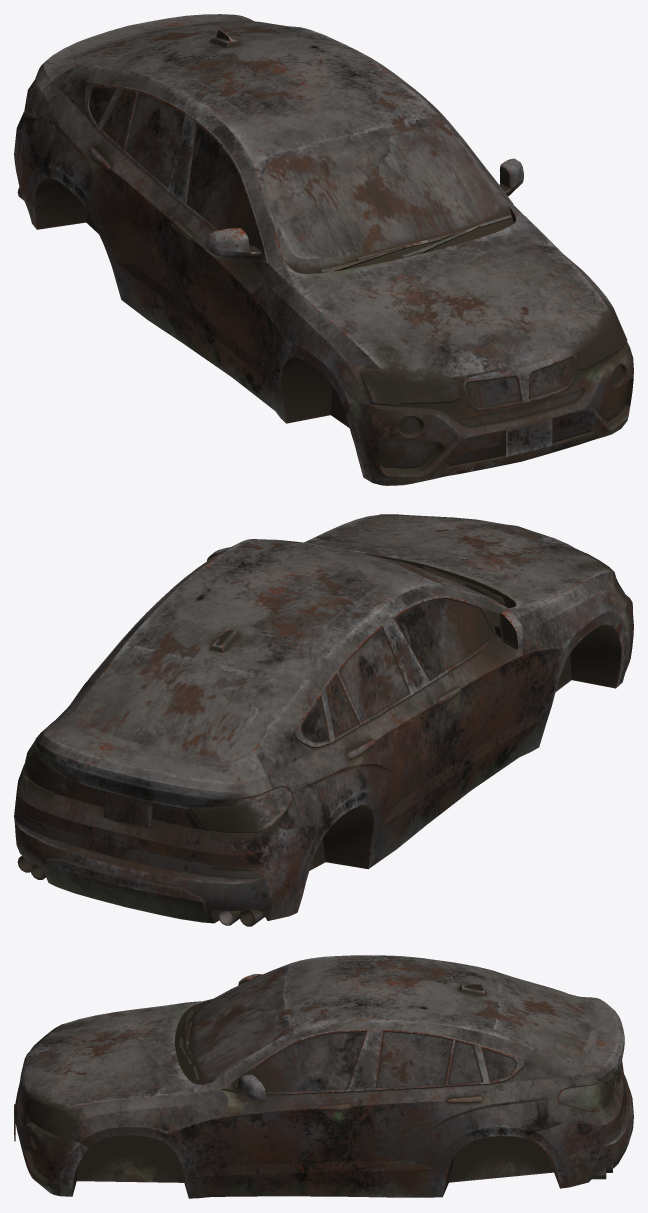
File: car1.fbx
The picture shows the model from 3 angles, top to bottom: view 1: azimuth 30°, elevation 25°; view 2: azimuth 150°, elevation 25°; view 3: azimuth 270°, elevation 25°; orthographic projection. The views are drawn at different scales.
Parts seen in each view (by area): view 1: Interior; view 2: Interior; view 3: Interior.
Boxes of the visible parts, x1,y1,x2,y2 form: Interior: (14,14,633,485); Interior: (14,514,633,926); Interior: (14,955,633,1198).
Size of the model in its own units: 209 by 143 by 475.
